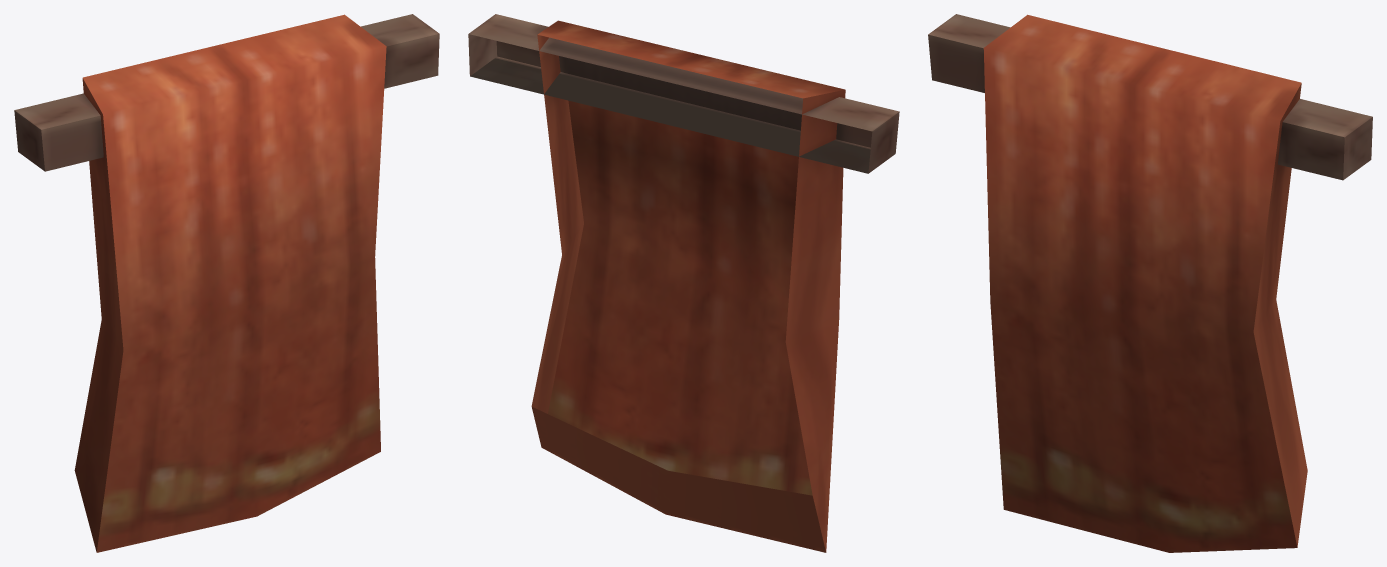
The model's file is furnitureSet_towel.FBX.
The picture shows the model from 3 angles, left to right: view 1: azimuth 30°, elevation 25°; view 2: azimuth 150°, elevation 25°; view 3: azimuth 330°, elevation 25°; orthographic projection. The views are drawn at different scales.
Visible parts, largest first — view 1: furnitureSet_towel; view 2: furnitureSet_towel; view 3: furnitureSet_towel.
Boxes of the visible parts, <box> form: furnitureSet_towel: <box>14,14,439,552</box>; furnitureSet_towel: <box>468,14,899,552</box>; furnitureSet_towel: <box>928,14,1372,552</box>.
Bounding box in the file's own units: 43.21 × 47.93 × 7.19.
1 material, 1 textured.
